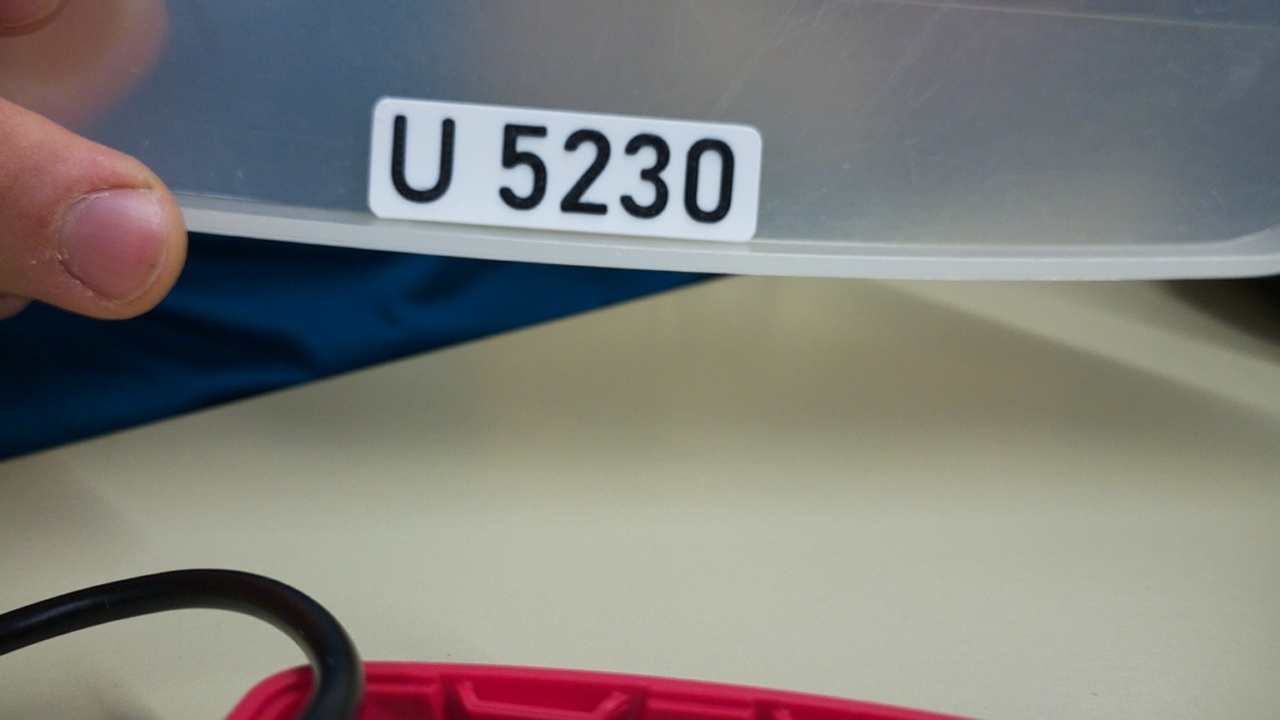license_plate: (368, 84, 764, 247)
